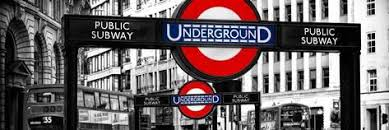London Underground: (164, 1, 271, 76), (174, 81, 217, 115)
